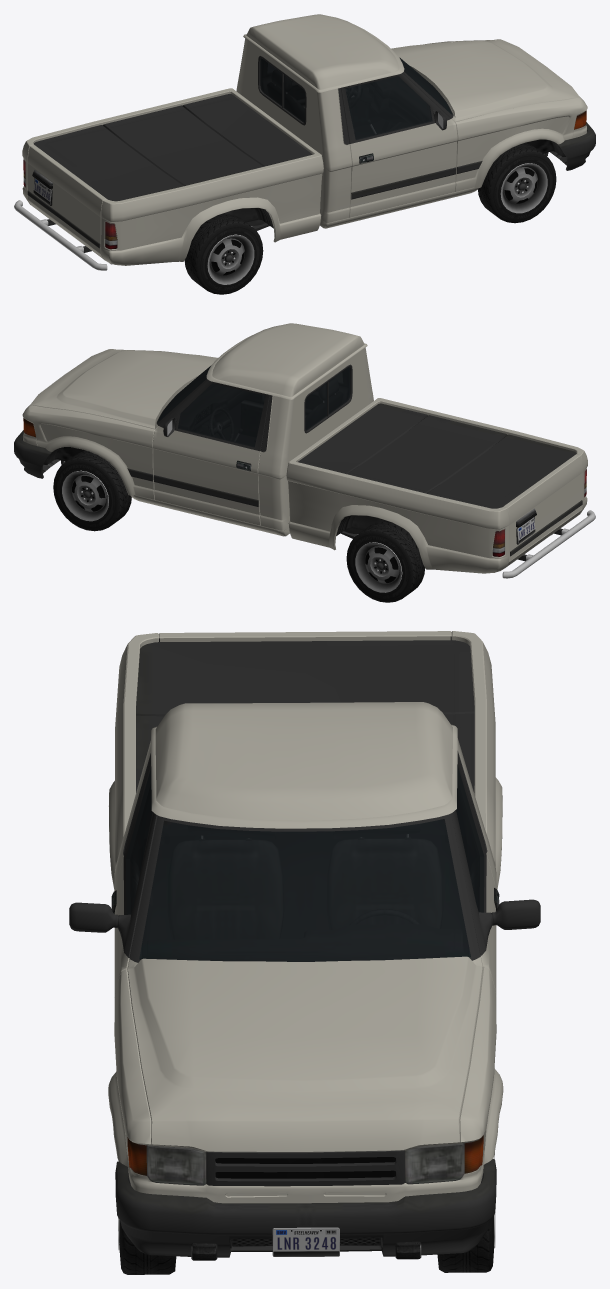
The model's file is conquer.glb.
3 renders of one model, top to bottom at view 1: azimuth 30°, elevation 25°; view 2: azimuth 150°, elevation 25°; view 3: azimuth 270°, elevation 25°, orthographic. The views are drawn at different scales.
Parts seen in each view (by area): view 1: CnqerP89_Body_CnqerP89_Bodymat_0, CnqerP89_Trunk_Cover_UCB_BOTTOM_0, CnqerP89_hood_CnqerP89_Bodymat_0, CnqerP89_Interior_UCB_Interiors_2_0, CnqerP89_WheelStock_RR_RB1c_Tire_1k_0, CnqerP89_WheelStock_FR_RB1c_Tire_1k_0, CnqerP89_Bottom_UCB_BOTTOM_0, CnqerP89_Glass_Passenger_UCB_Lights_and_Glass_Transperent_0, CnqerP89_Trunkdoor_CnqerP89_Bodymat_0, CnqerP89_Rear_glass_UCB_Lights_and_Glass_Transperent_0, CnqerP89_front_bumper_UCB_BOTTOM_0, CnqerP89_bumper_rear_UCB_BOTTOM_0 (+3 smaller); view 2: CnqerP89_Body_CnqerP89_Bodymat_0, CnqerP89_Trunk_Cover_UCB_BOTTOM_0, CnqerP89_hood_CnqerP89_Bodymat_0, CnqerP89_WheelStock_RL_RB1c_Tire_1k_0, CnqerP89_Interior_UCB_Interiors_2_0, CnqerP89_Bottom_UCB_BOTTOM_0, CnqerP89_WheelStock_FL_RB1c_Tire_1k_0, CnqerP89_Glass_Driver_UCB_Lights_and_Glass_Transperent_0, CnqerP89_Trunkdoor_CnqerP89_Bodymat_0, CnqerP89_Rear_glass_UCB_Lights_and_Glass_Transperent_0, CnqerP89_front_bumper_UCB_BOTTOM_0, CnqerP89_bumper_rear_UCB_BOTTOM_0 (+3 smaller); view 3: CnqerP89_Body_CnqerP89_Bodymat_0, CnqerP89_hood_CnqerP89_Bodymat_0, CnqerP89_Interior_UCB_Interiors_2_0, CnqerP89_Windshield_UCB_Lights_and_Glass_Transperent_0, CnqerP89_Trunk_Cover_UCB_BOTTOM_0, CnqerP89_front_bumper_UCB_BOTTOM_0, CnqerP89_Bottom_UCB_BOTTOM_0, CnqerP89_Headlights_Glass_UCB_Lights_and_Glass_Transperent_0, CnqerP89_Headlights_UCB_Lights_and_Glass_0, CnqerP89_Trunkdoor_CnqerP89_Bodymat_0, CnqerP89_NP_Stock_Front_Numberplates_Misk_U_0, CnqerP89_Glass_Driver_UCB_Lights_and_Glass_Transperent_0 (+4 smaller).
Boxes of the visible parts, box(x1,y1,x2,y2) form: CnqerP89_Body_CnqerP89_Bodymat_0: box(22, 14, 587, 265); CnqerP89_Trunk_Cover_UCB_BOTTOM_0: box(34, 94, 312, 201); CnqerP89_hood_CnqerP89_Bodymat_0: box(391, 40, 583, 121); CnqerP89_Interior_UCB_Interiors_2_0: box(262, 59, 451, 138); CnqerP89_WheelStock_RR_RB1c_Tire_1k_0: box(184, 214, 263, 294); CnqerP89_WheelStock_FR_RB1c_Tire_1k_0: box(478, 143, 556, 223); CnqerP89_Bottom_UCB_BOTTOM_0: box(46, 56, 565, 264); CnqerP89_Glass_Passenger_UCB_Lights_and_Glass_Transperent_0: box(345, 76, 432, 139); CnqerP89_Trunkdoor_CnqerP89_Bodymat_0: box(28, 145, 106, 253); CnqerP89_Rear_glass_UCB_Lights_and_Glass_Transperent_0: box(260, 58, 305, 122); CnqerP89_front_bumper_UCB_BOTTOM_0: box(550, 122, 595, 170); CnqerP89_bumper_rear_UCB_BOTTOM_0: box(14, 200, 107, 270); CnqerP89_Body_CnqerP89_Bodymat_0: box(22, 323, 587, 573); CnqerP89_Trunk_Cover_UCB_BOTTOM_0: box(298, 403, 576, 508); CnqerP89_hood_CnqerP89_Bodymat_0: box(26, 349, 217, 429); CnqerP89_WheelStock_RL_RB1c_Tire_1k_0: box(346, 522, 425, 602); CnqerP89_Interior_UCB_Interiors_2_0: box(159, 368, 348, 445); CnqerP89_Bottom_UCB_BOTTOM_0: box(44, 364, 562, 561); CnqerP89_WheelStock_FL_RB1c_Tire_1k_0: box(53, 451, 131, 531); CnqerP89_Glass_Driver_UCB_Lights_and_Glass_Transperent_0: box(178, 383, 265, 447); CnqerP89_Trunkdoor_CnqerP89_Bodymat_0: box(503, 454, 582, 561); CnqerP89_Rear_glass_UCB_Lights_and_Glass_Transperent_0: box(305, 367, 350, 430); CnqerP89_front_bumper_UCB_BOTTOM_0: box(14, 430, 60, 478); CnqerP89_bumper_rear_UCB_BOTTOM_0: box(502, 510, 595, 578); CnqerP89_Body_CnqerP89_Bodymat_0: box(108, 631, 503, 1203); CnqerP89_hood_CnqerP89_Bodymat_0: box(127, 956, 482, 1151); CnqerP89_Interior_UCB_Interiors_2_0: box(130, 784, 479, 961); CnqerP89_Windshield_UCB_Lights_and_Glass_Transperent_0: box(139, 819, 470, 961); CnqerP89_Trunk_Cover_UCB_BOTTOM_0: box(136, 640, 474, 792); CnqerP89_front_bumper_UCB_BOTTOM_0: box(115, 1159, 496, 1260); CnqerP89_Bottom_UCB_BOTTOM_0: box(69, 751, 540, 1197); CnqerP89_Headlights_Glass_UCB_Lights_and_Glass_Transperent_0: box(127, 1135, 483, 1185); CnqerP89_Headlights_UCB_Lights_and_Glass_0: box(147, 1144, 463, 1184); CnqerP89_Trunkdoor_CnqerP89_Bodymat_0: box(159, 631, 451, 641); CnqerP89_NP_Stock_Front_Numberplates_Misk_U_0: box(272, 1227, 339, 1256); CnqerP89_Glass_Driver_UCB_Lights_and_Glass_Transperent_0: box(456, 765, 484, 912).
Bounding box in the file's own units: 5.22 × 1.85 × 2.1.
Materials: 7 (6 with a texture image).
